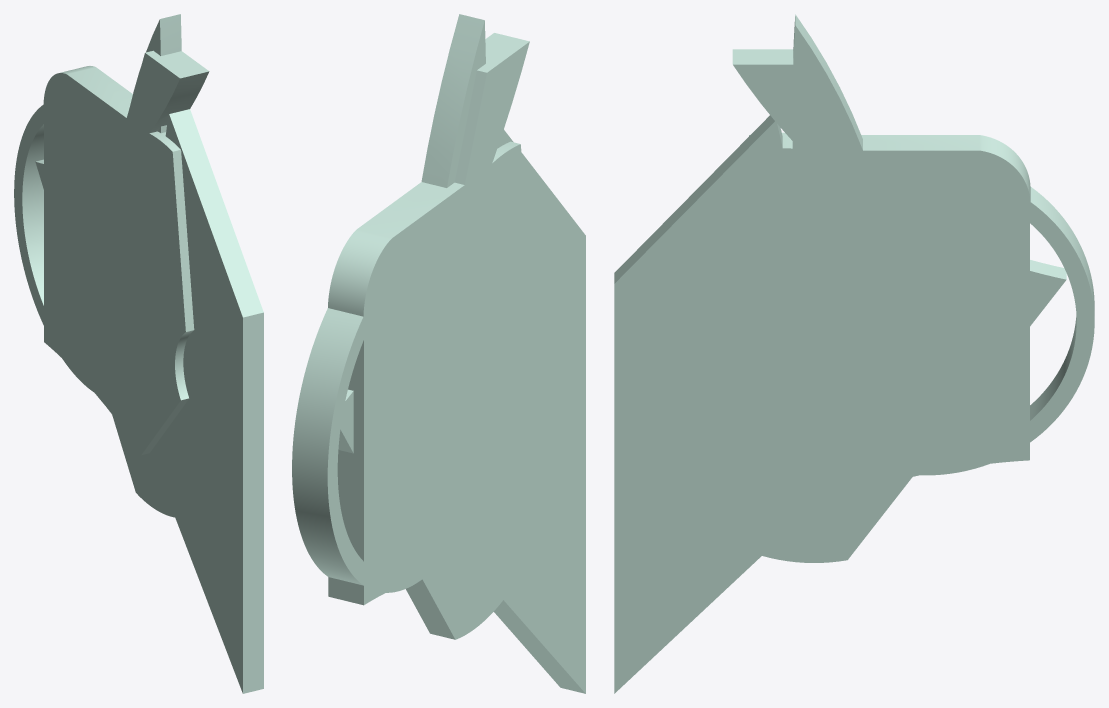
The picture shows the model from 3 angles, left to right: view 1: azimuth 30°, elevation 25°; view 2: azimuth 150°, elevation 25°; view 3: azimuth 270°, elevation 25°; orthographic projection. The views are drawn at different scales.
Visible parts, largest first — view 1: Renderer Node; view 2: Renderer Node; view 3: Renderer Node.
Part boxes in pixels (<box>): Renderer Node: <box>14,14,263,693</box>; Renderer Node: <box>292,14,585,693</box>; Renderer Node: <box>614,14,1094,693</box>.
Size of the model in its own units: 0.0547 by 1.1 by 0.7133.
